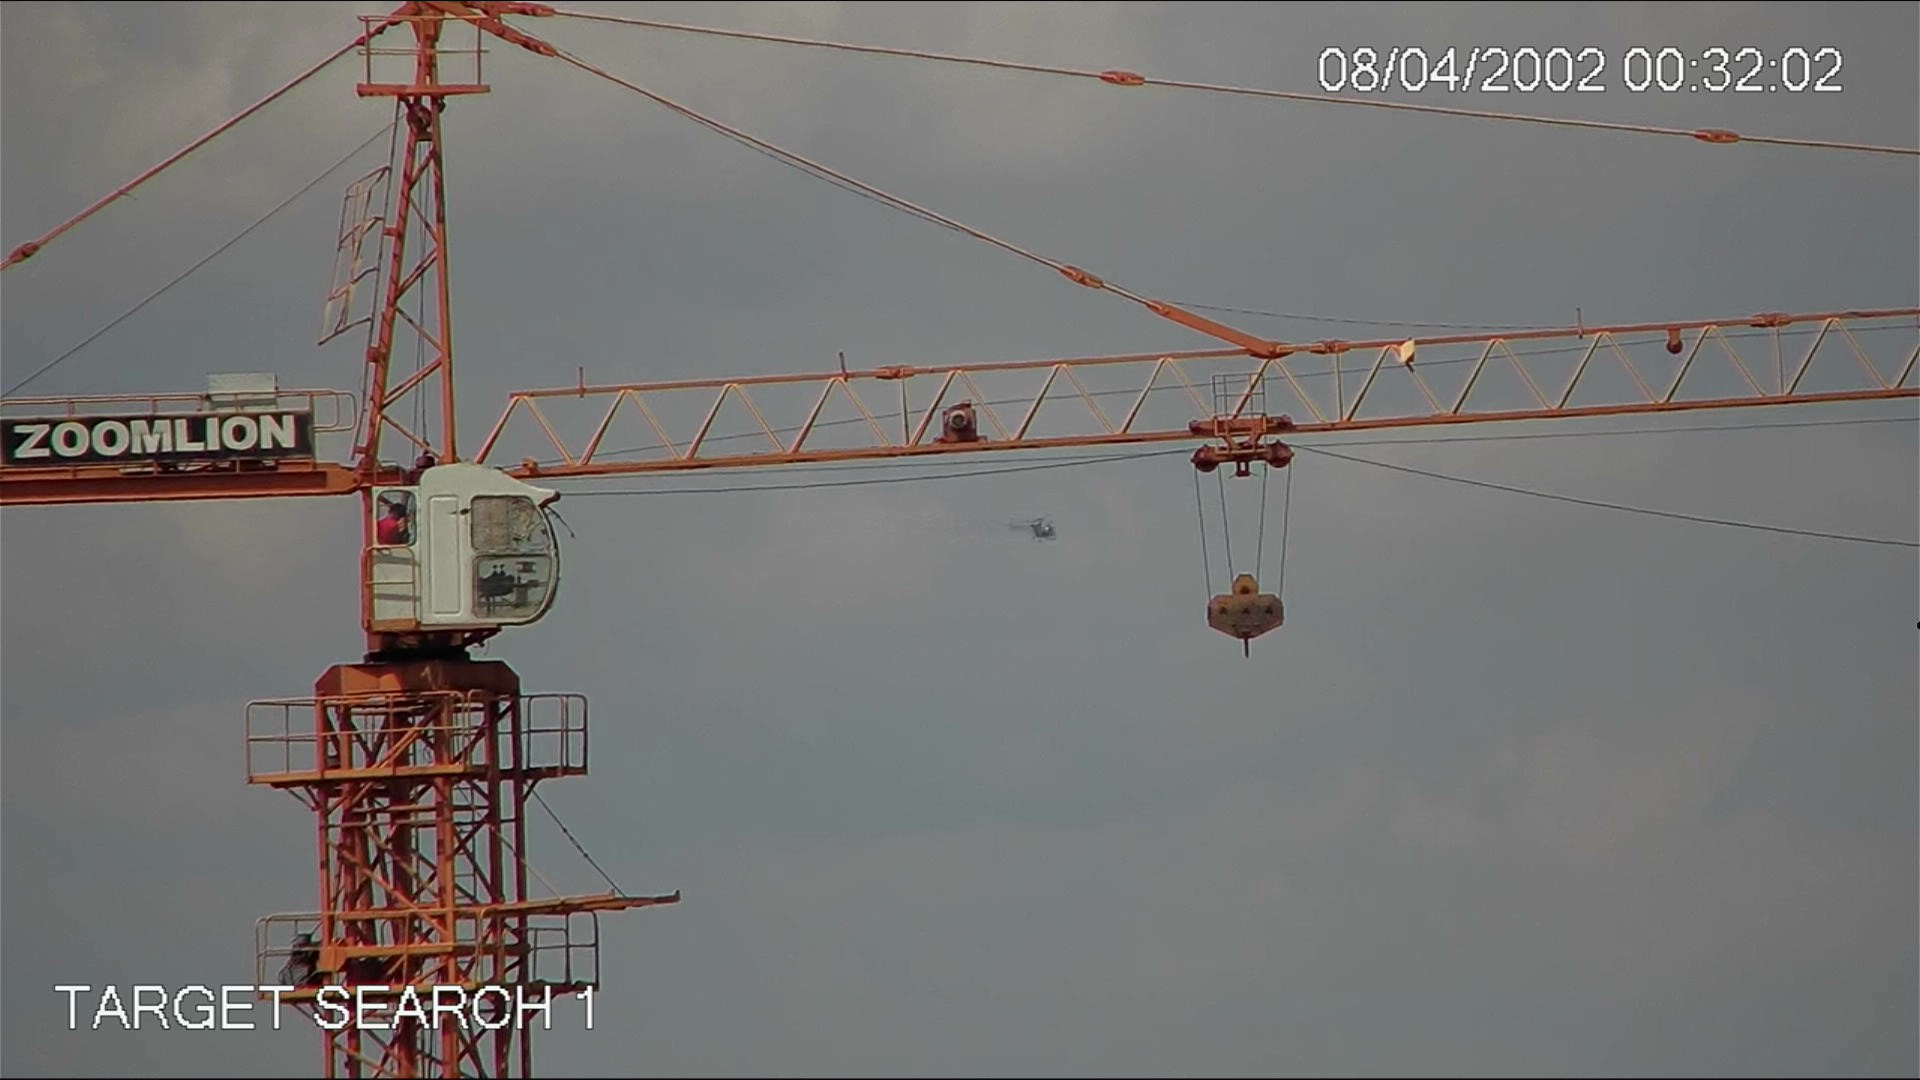SU_30: (1005, 509, 1062, 554)
